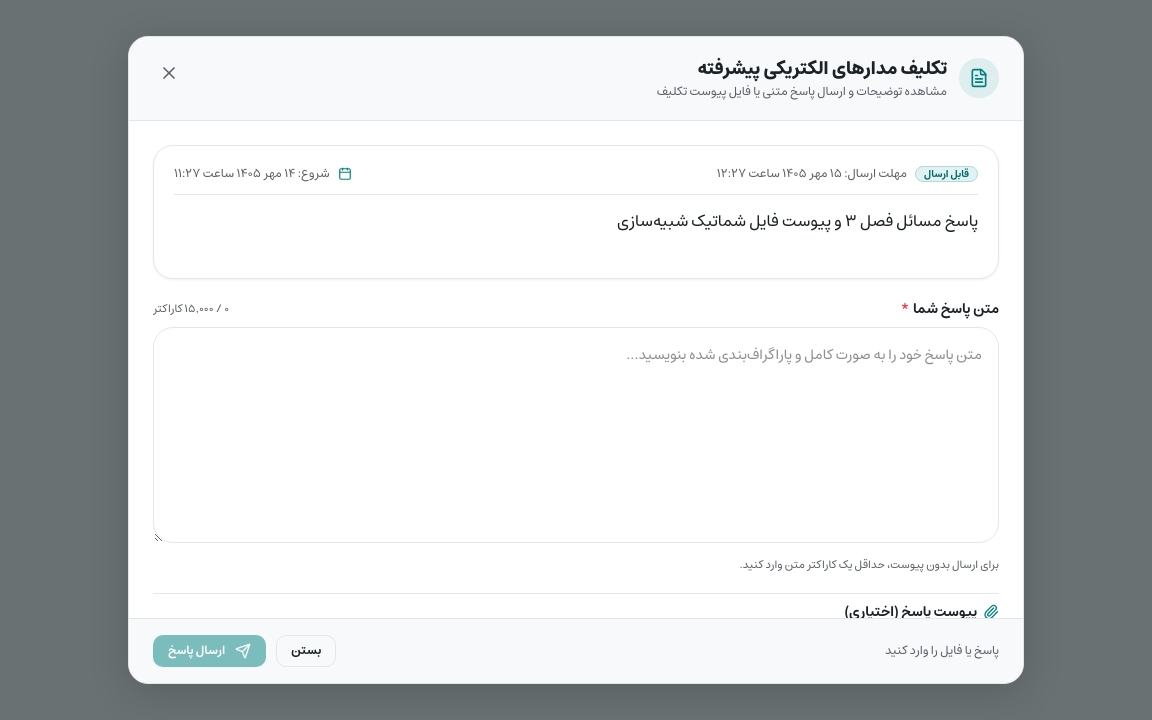
StudentAssignmentSubmissionModal — Enhanced UI/UX & Attachments › displays backend validation error message in UI if submission fails
The width and height of the screenshot is (1152, 720).
Type "پاسخ معتبر" into the text box with placeholder "متن پاسخ خود را به صورت کامل و پاراگراف‌بندی شده بنویسید...".
click(576, 435); type("پاسخ معتبر")  # box [153,327,999,543]
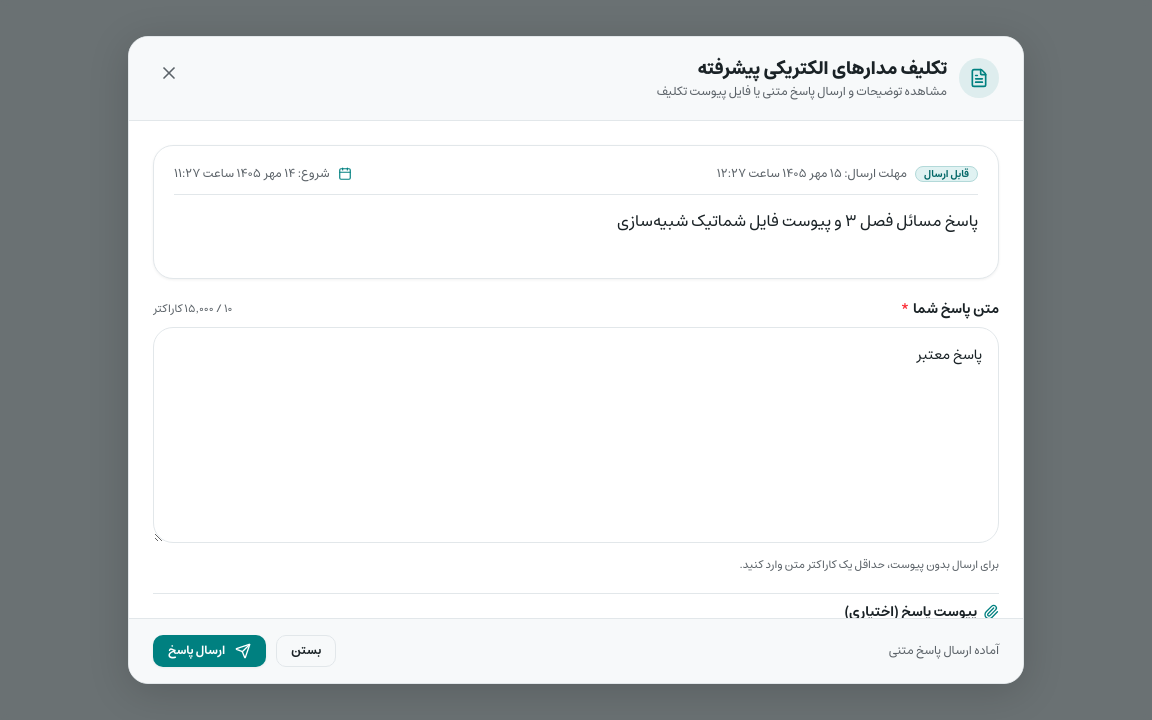
Click the button "ارسال پاسخ".
click(210, 651)  # box [153,635,266,667]
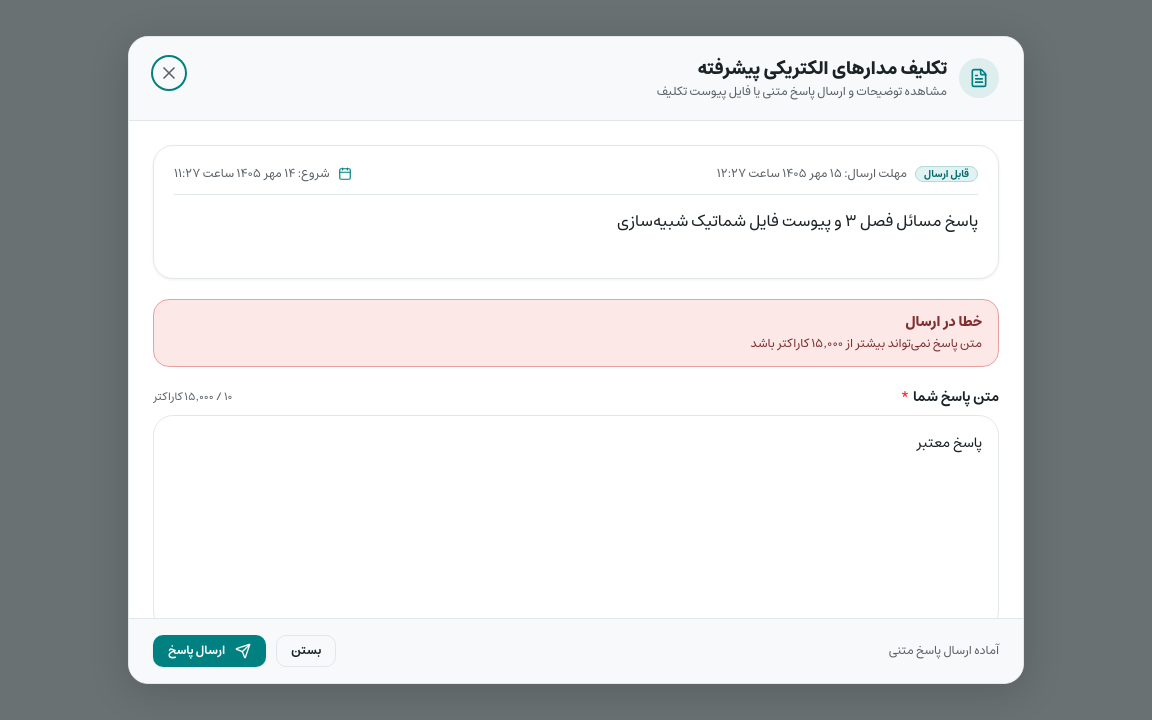
Result: the text "متن پاسخ نمی‌تواند بیشتر از ۱۵٬۰۰۰ کاراکتر باشد" is shown at [750,334,982,354]
